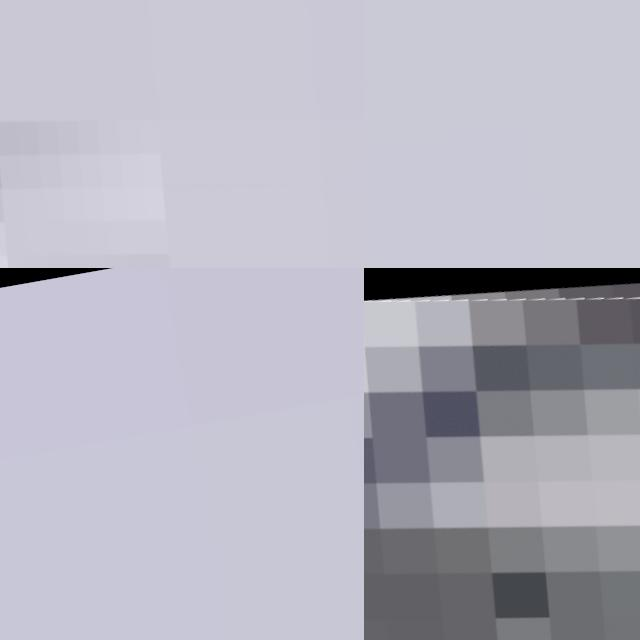0: (0, 0, 364, 268)
drone: (364, 268, 640, 640)
